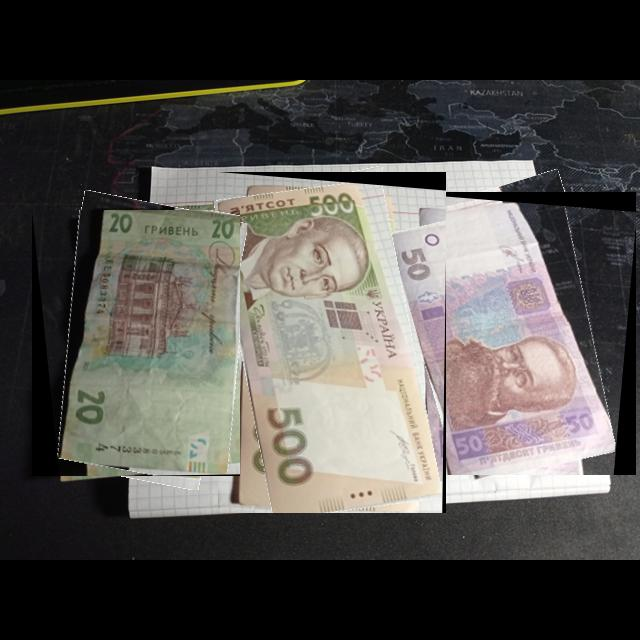20uah: (53, 210, 241, 476)
50uah: (218, 181, 444, 514), (390, 200, 620, 476)
